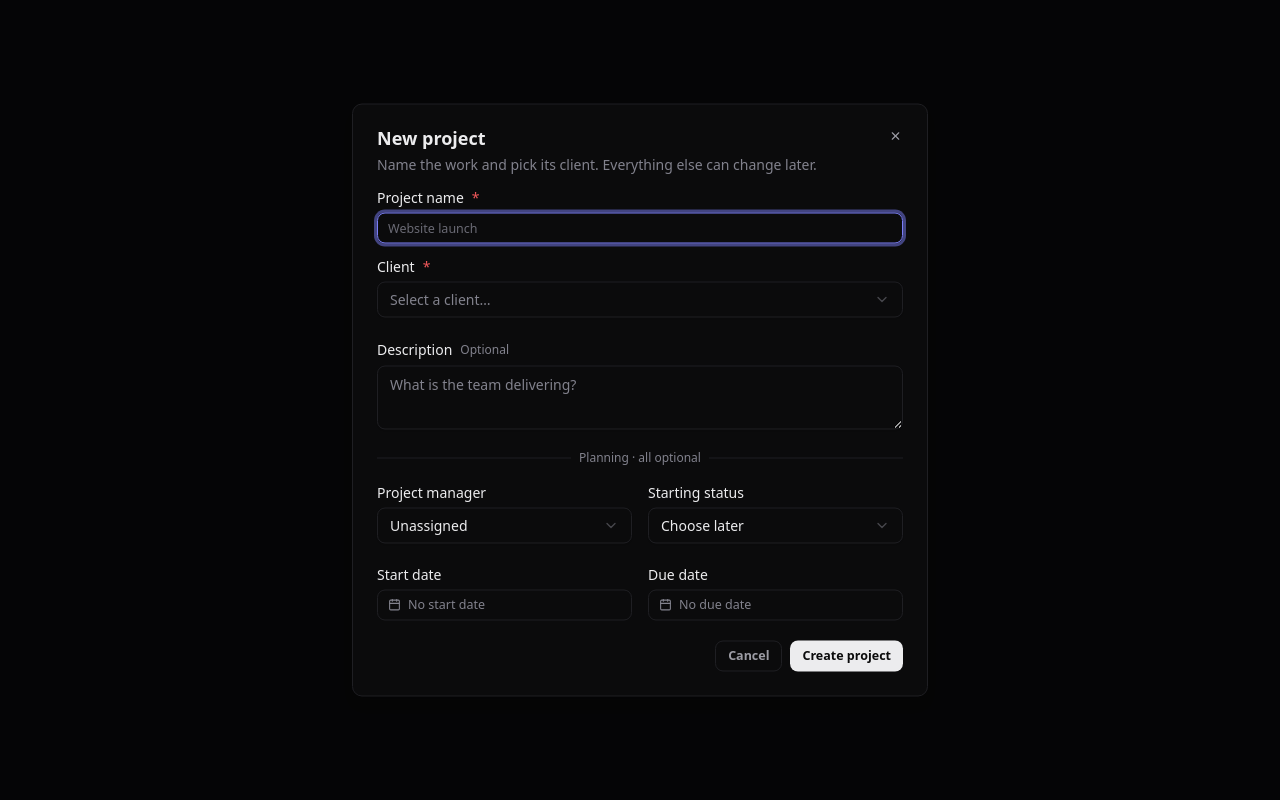
it: ProjectOnboarding › lets an optional select be returned to its unset state
Click the dropdown named "Project manager": (504, 526) [377,508,632,544]
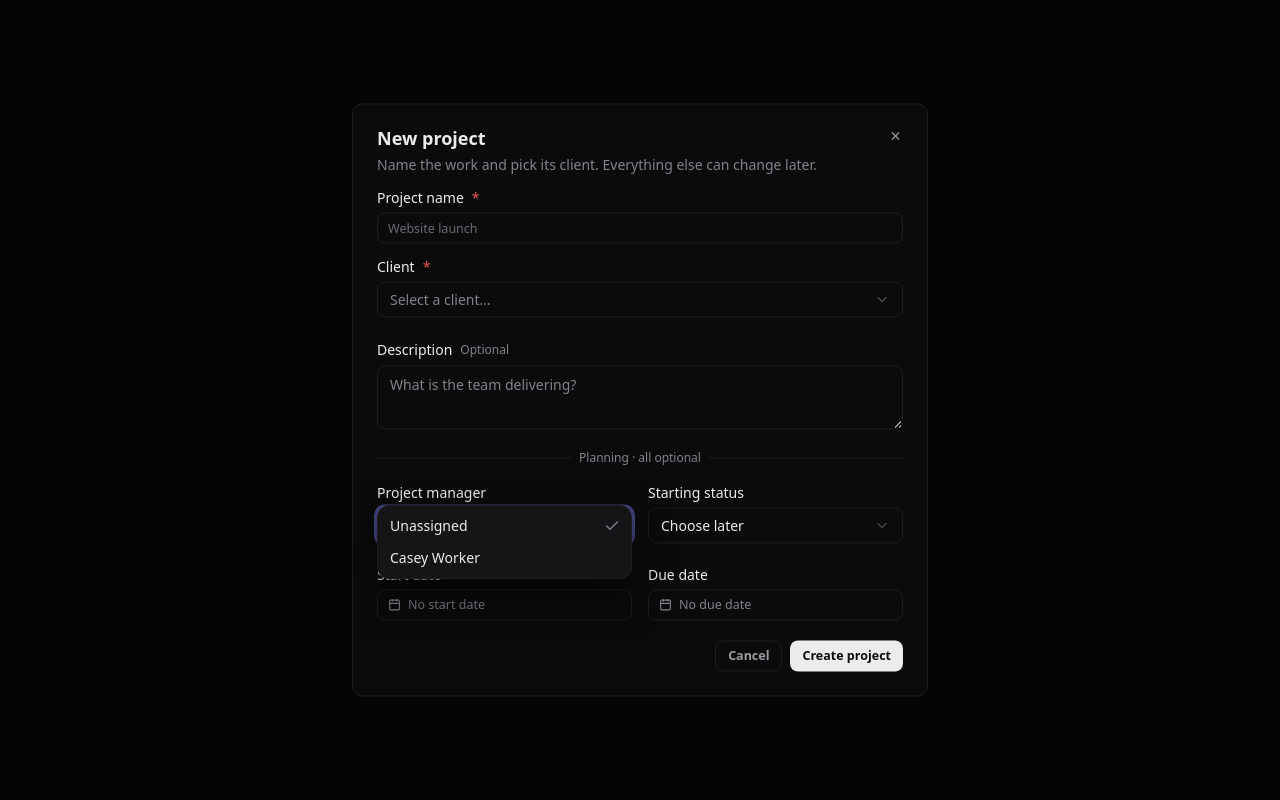
Click the option "Casey Worker": (435, 557) [390,548,480,566]
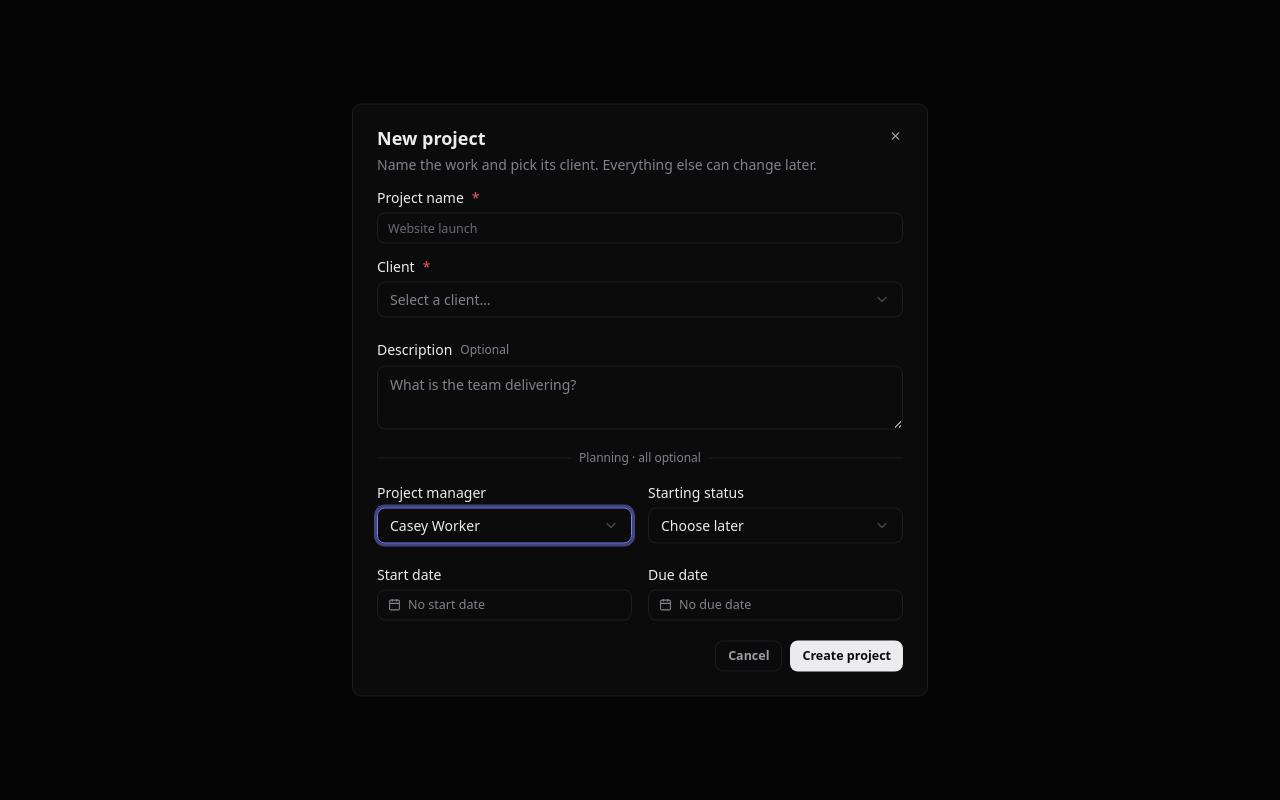
Expected: the dropdown named "Project manager" reads "Casey Worker"
Click the dropdown named "Project manager": (504, 526) [377,508,632,544]
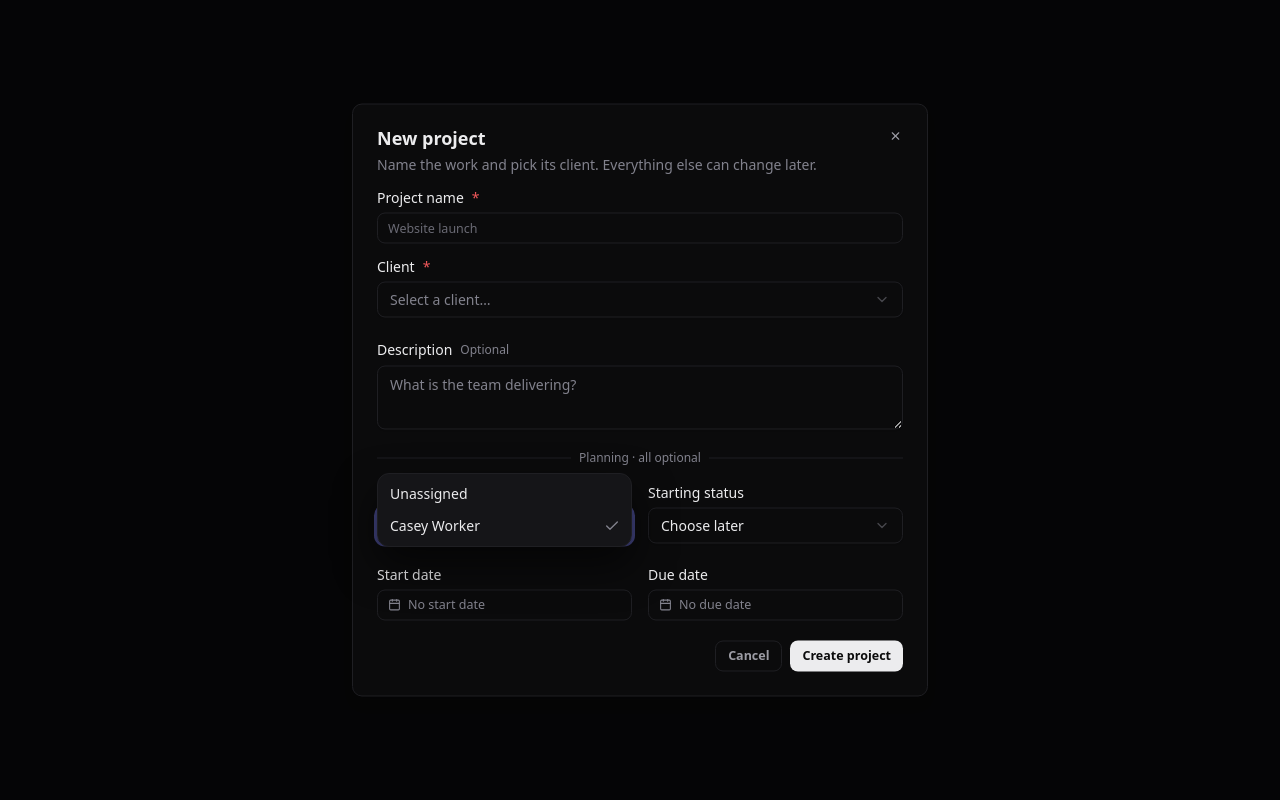
Click the option "Unassigned": (429, 493) [390,484,468,502]
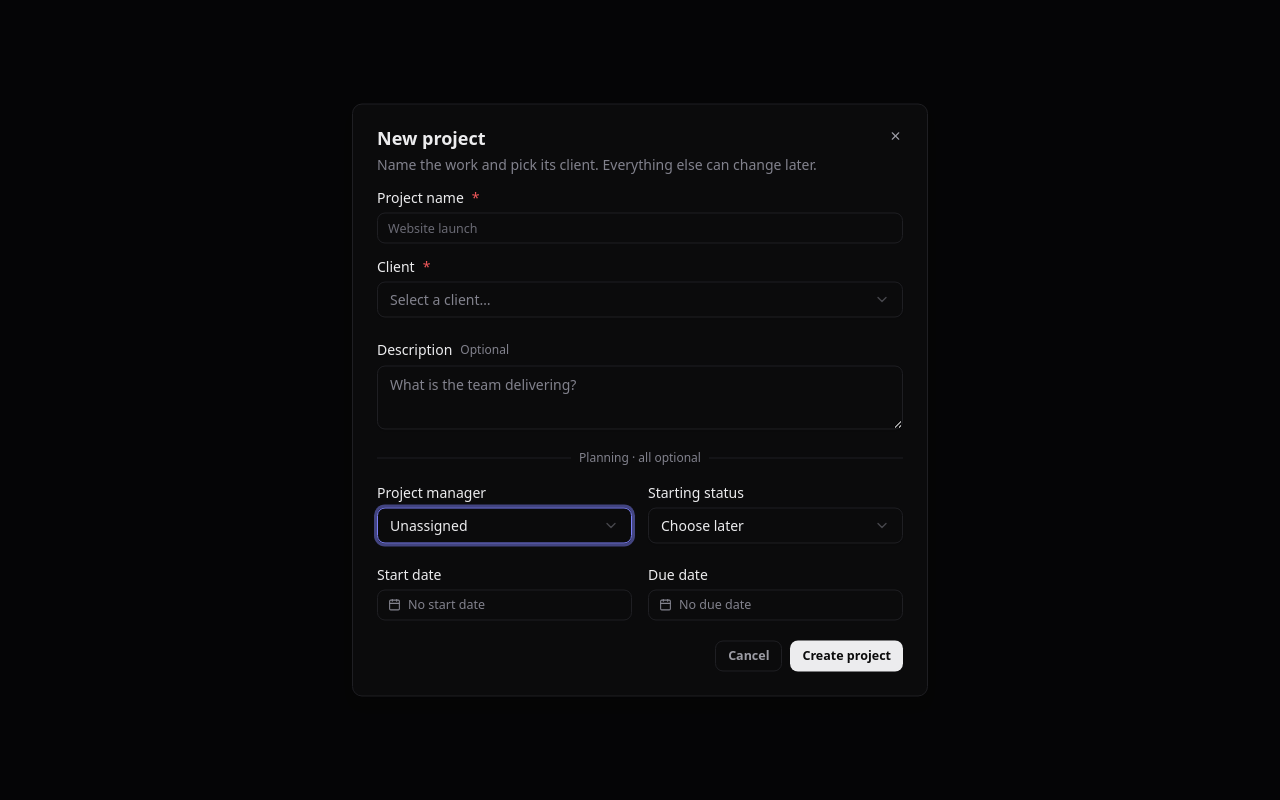
Expected: the dropdown named "Project manager" reads "Unassigned", [377,508,632,544]
